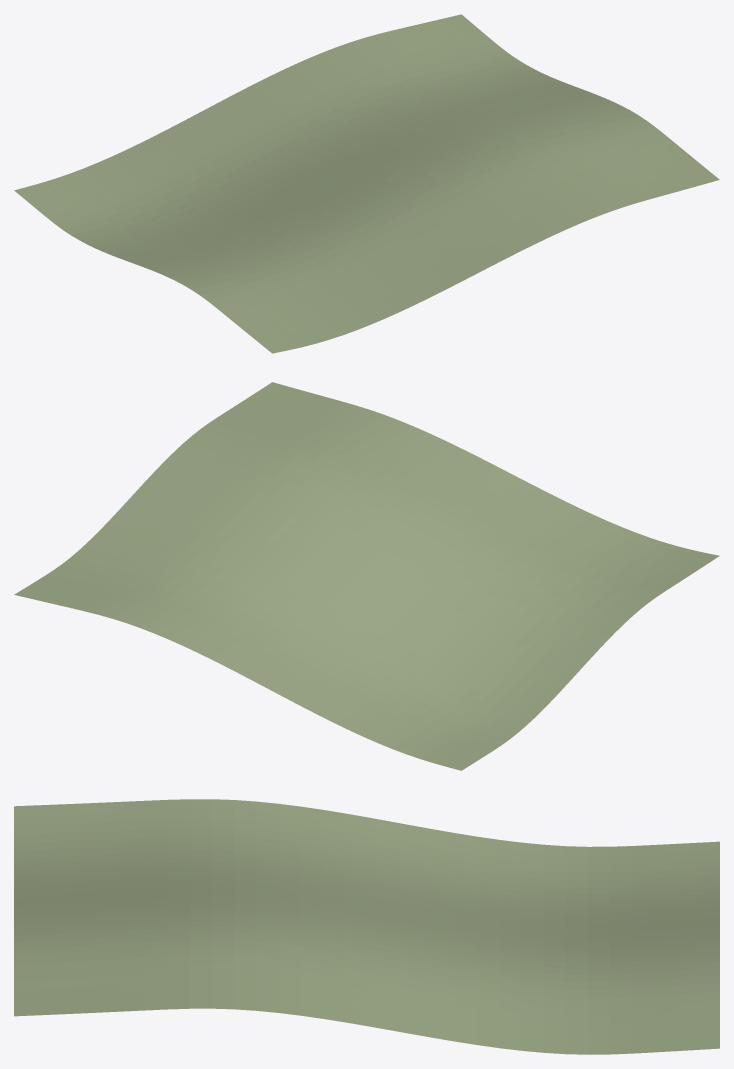
Rendered from canyon-3-4.glb.
The picture shows the model from 3 angles, top to bottom: view 1: azimuth 30°, elevation 25°; view 2: azimuth 150°, elevation 25°; view 3: azimuth 270°, elevation 25°; orthographic projection. The views are drawn at different scales.
Visible parts, largest first — view 1: canyon-3-4; view 2: canyon-3-4; view 3: canyon-3-4.
Boxes of the visible parts, left/top/right/bottom form: canyon-3-4: left=14, top=14, right=719, bottom=353; canyon-3-4: left=14, top=382, right=719, bottom=770; canyon-3-4: left=14, top=799, right=719, bottom=1054.
Size of the model in its own units: 128 by 27.31 by 128.
